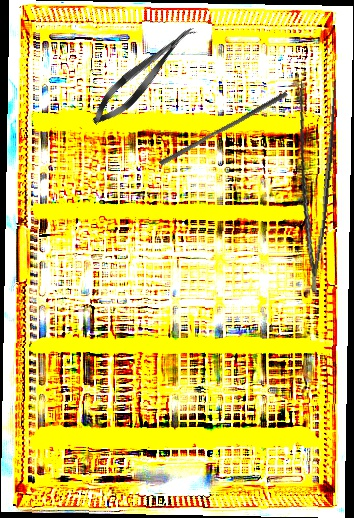Micro Scissor: (84, 17, 203, 133)
Pusher: (158, 86, 289, 171)
Tissue Forceps: (276, 73, 343, 292)
